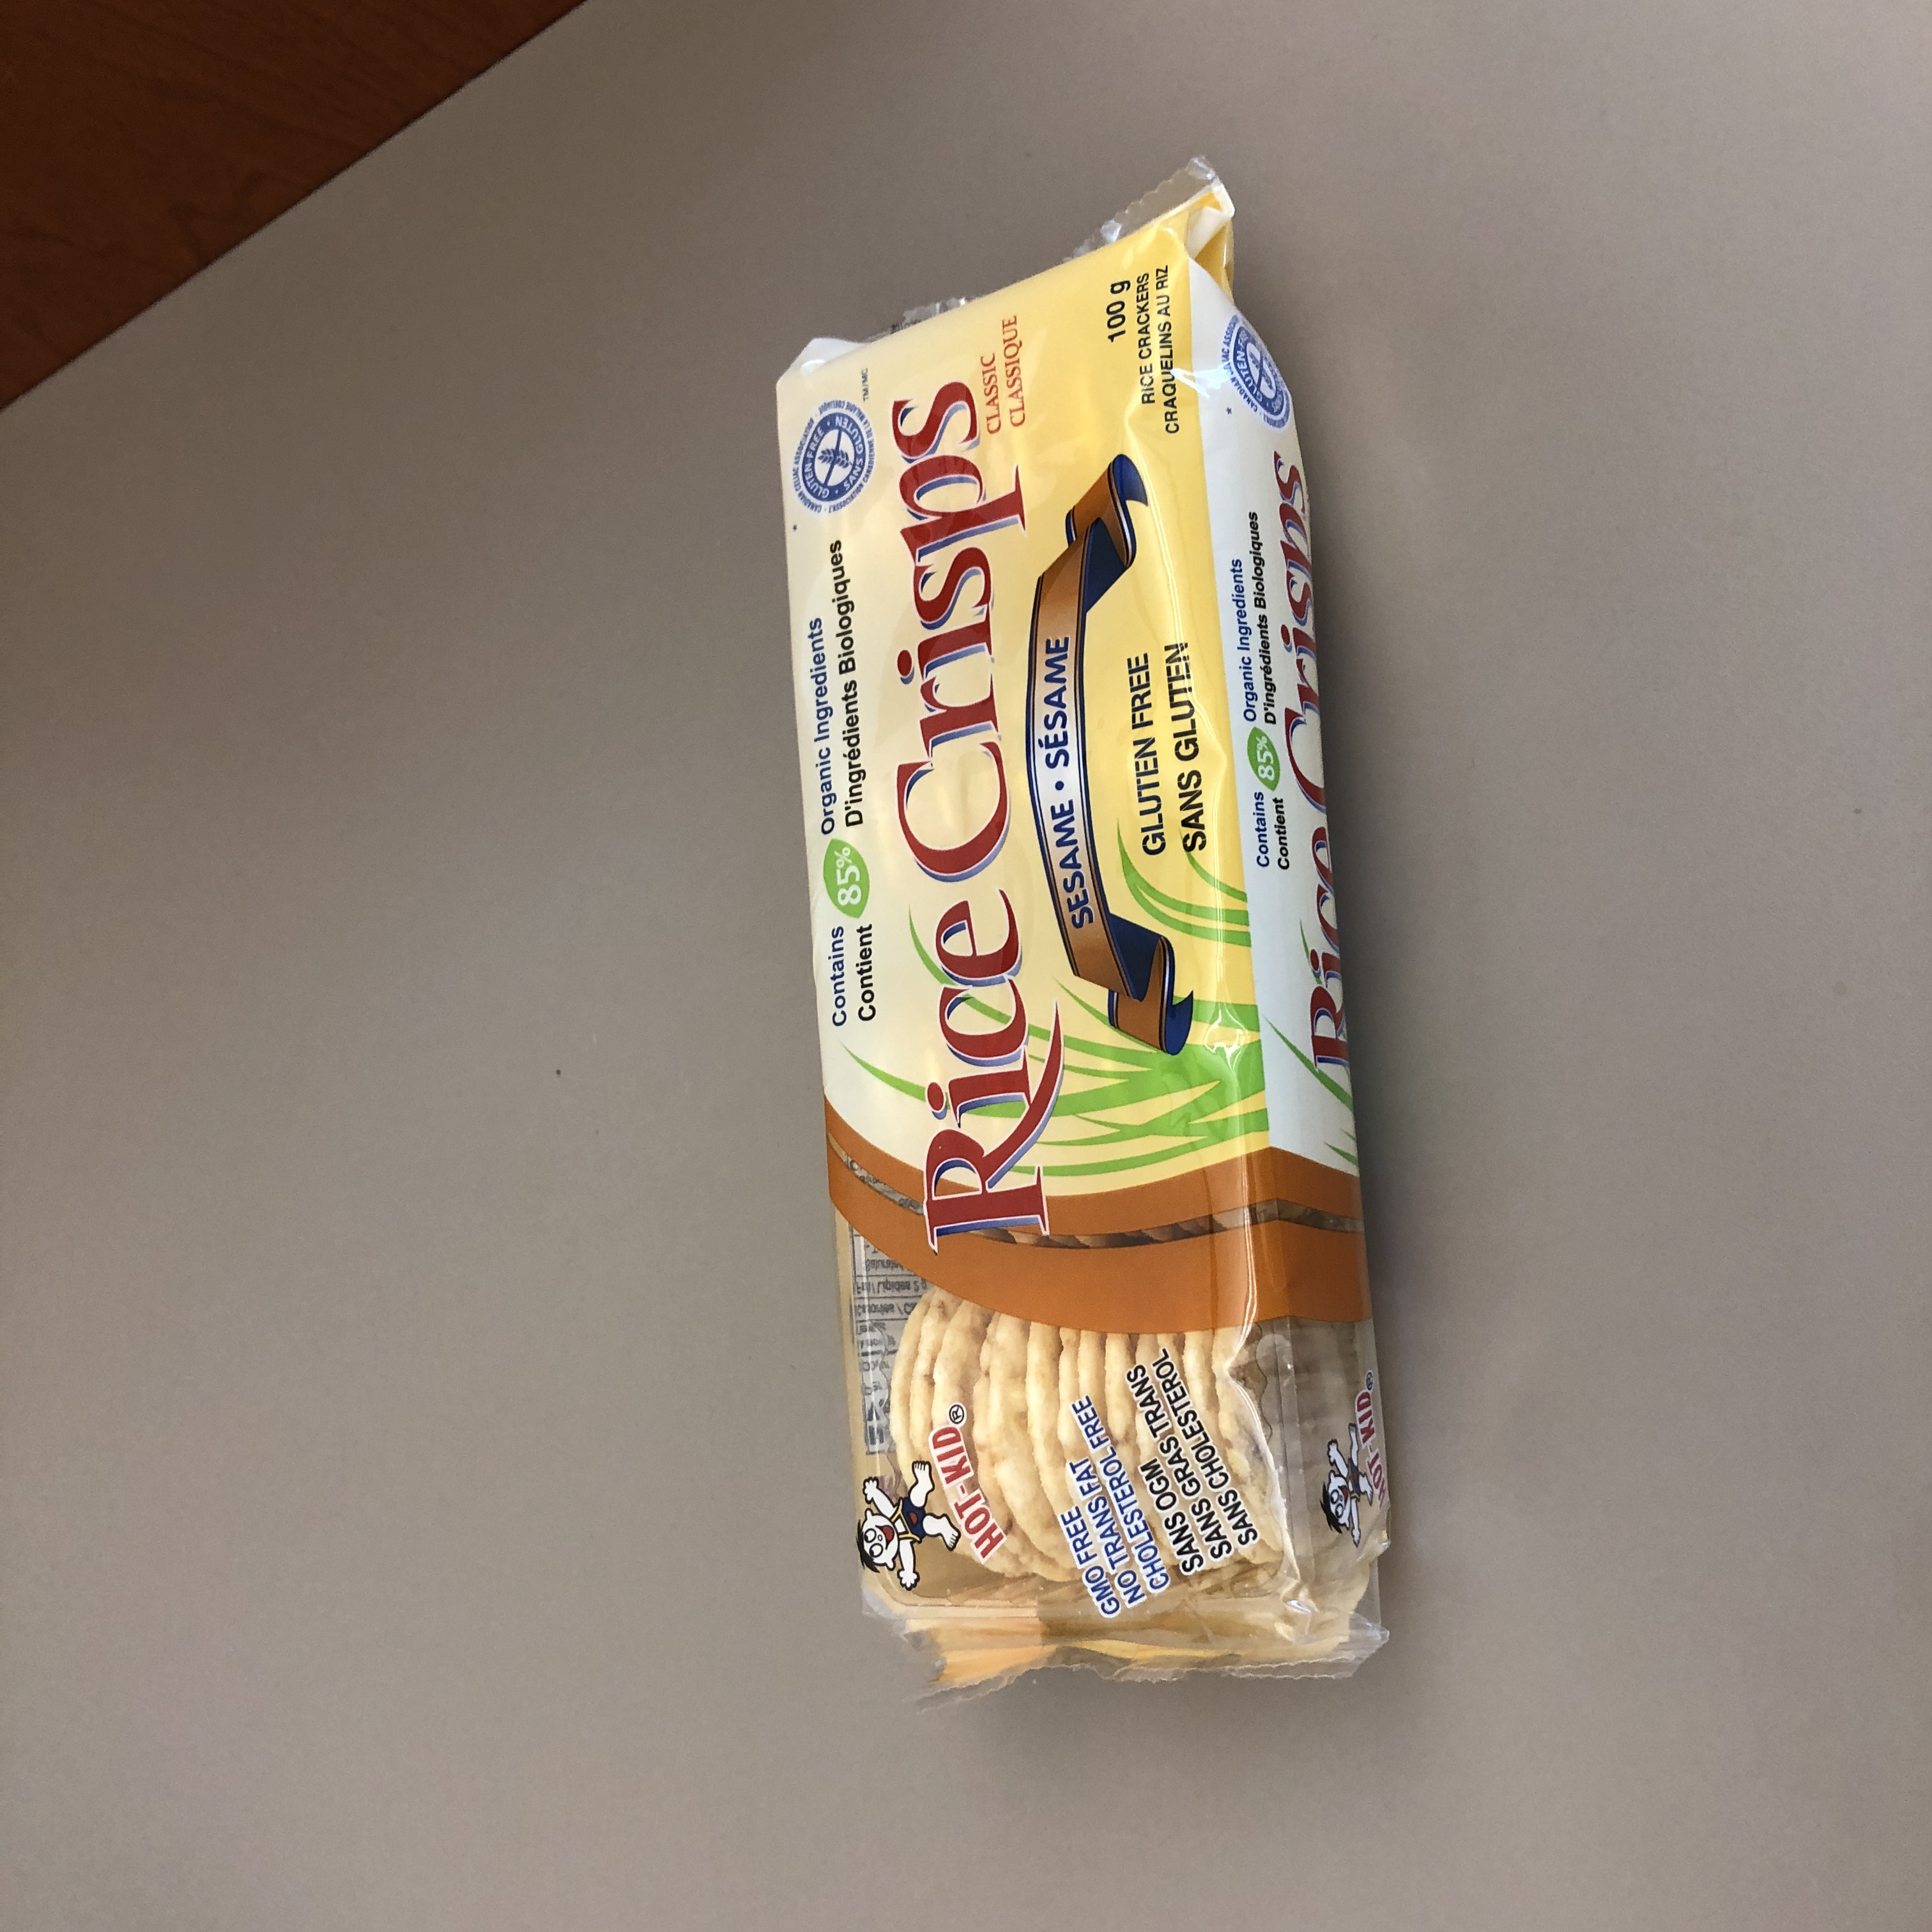hot_kid_rice_crisps_sesame: (254, 804, 1704, 1312)
